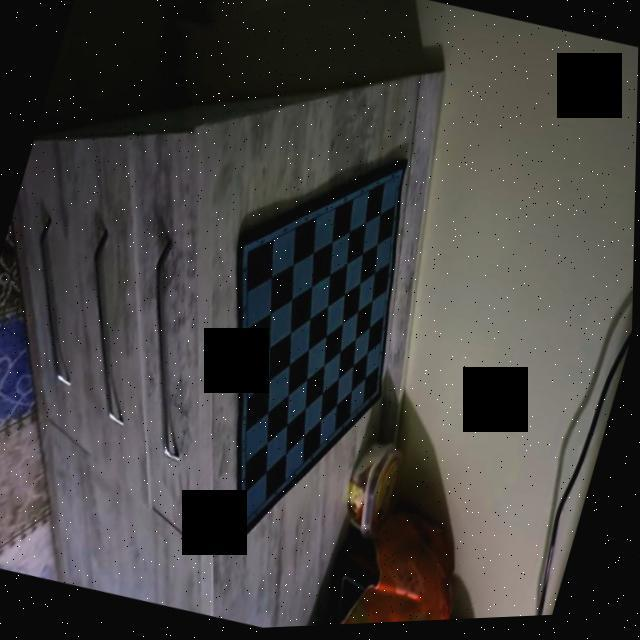chess-table-corners: (234, 232, 268, 270), (382, 156, 414, 196), (232, 506, 262, 544), (366, 376, 392, 409)
